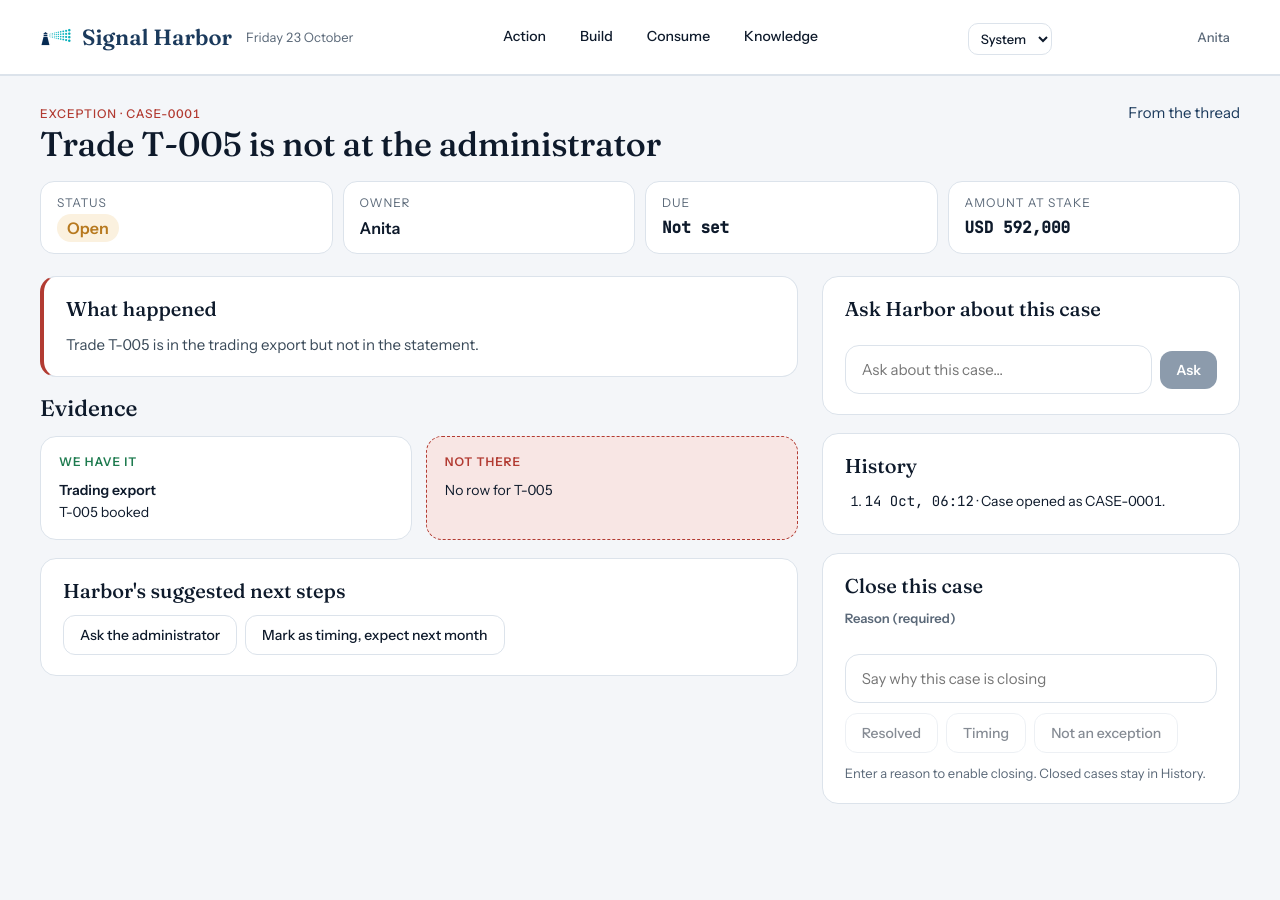
Test: shows both sides of the evidence and a draft that needs an OK
The image size is (1280, 900).
Expected: the heading "Trade T-005 is not at the administrator" is shown, [40,124,661,165]
Expected: the text "No row for T-005" is shown, [445,481,553,499]
Click the button "Ask the administrator" at (150, 635), box [63,615,237,655]
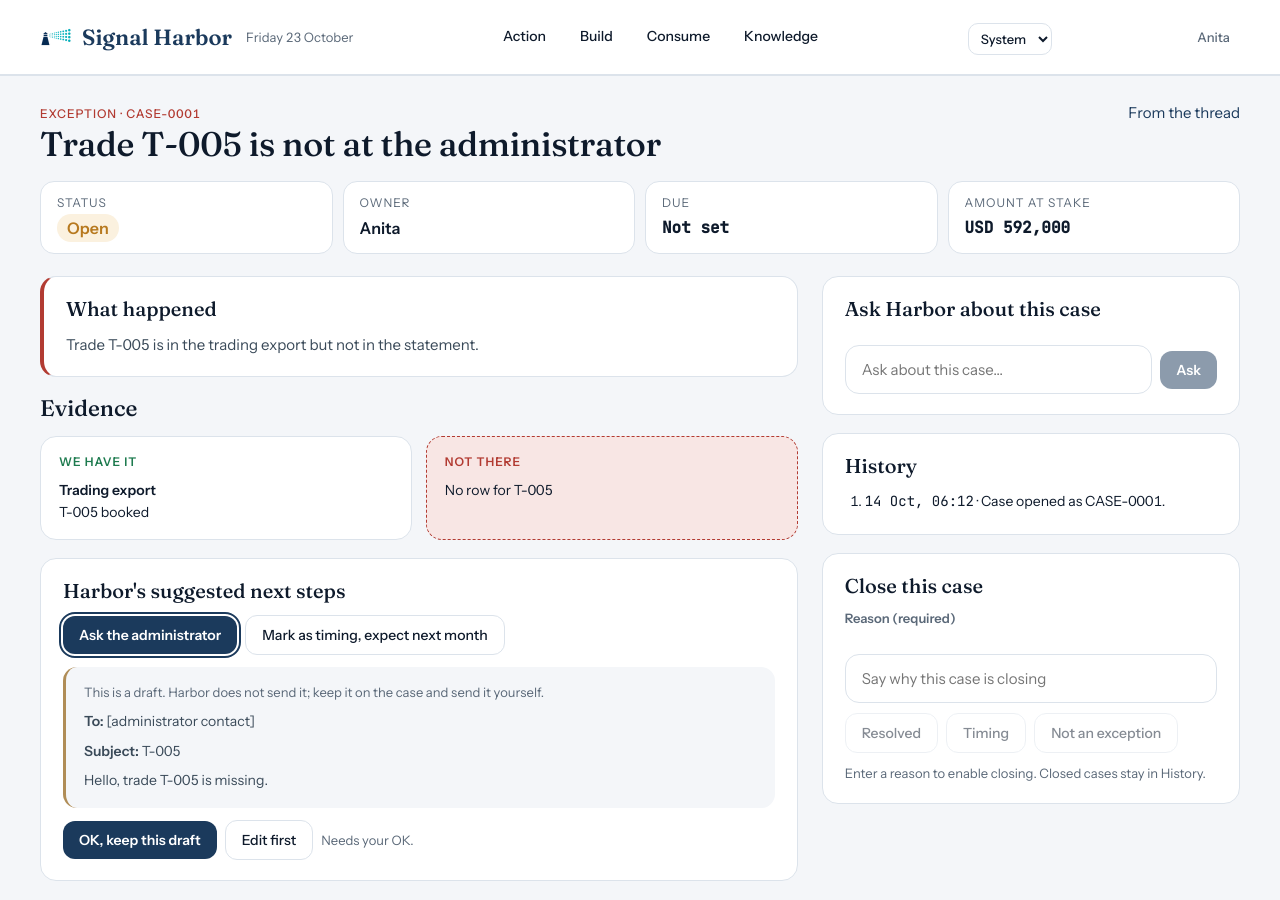
Expected: the element named "Drafted email to the administrator" shows "trade T-005 is missing", [84,771,268,789]
Expected: the text "Needs your OK." is shown, [321,830,414,850]
